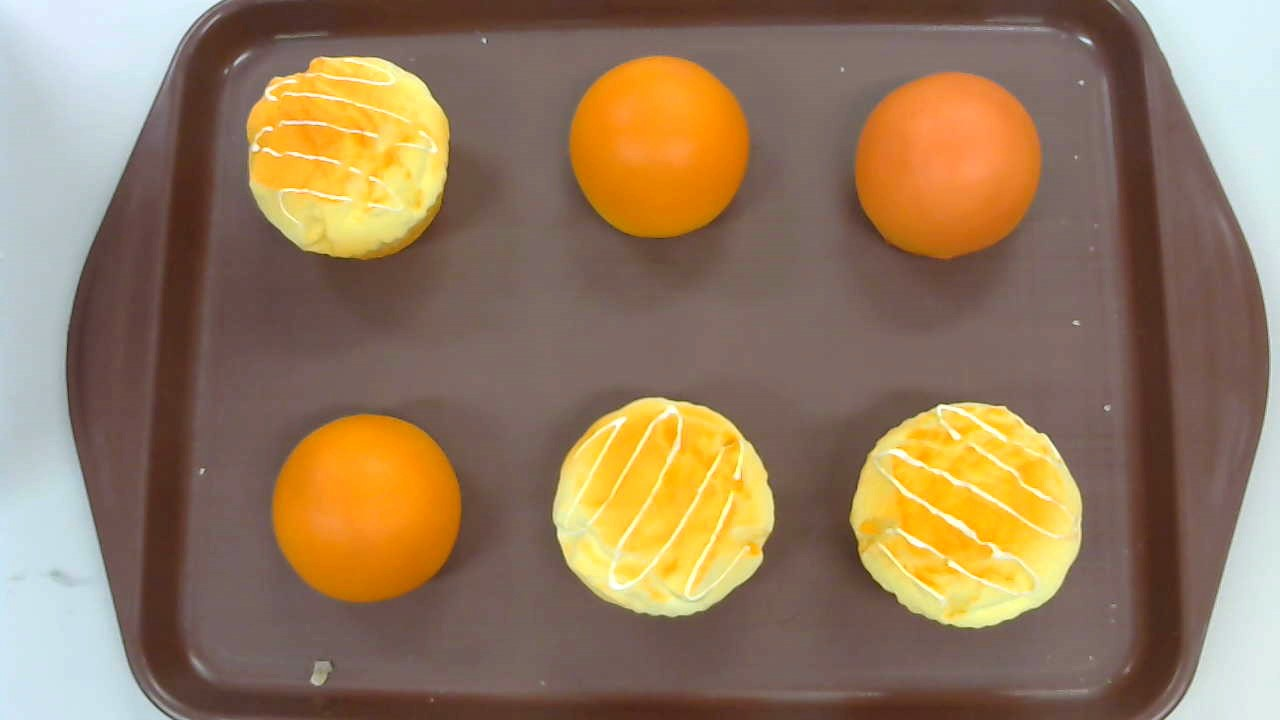bun: (272, 415, 460, 603), (855, 71, 1041, 260), (569, 56, 749, 240)
cupcake: (848, 402, 1083, 630), (553, 397, 775, 616), (246, 56, 450, 262)
